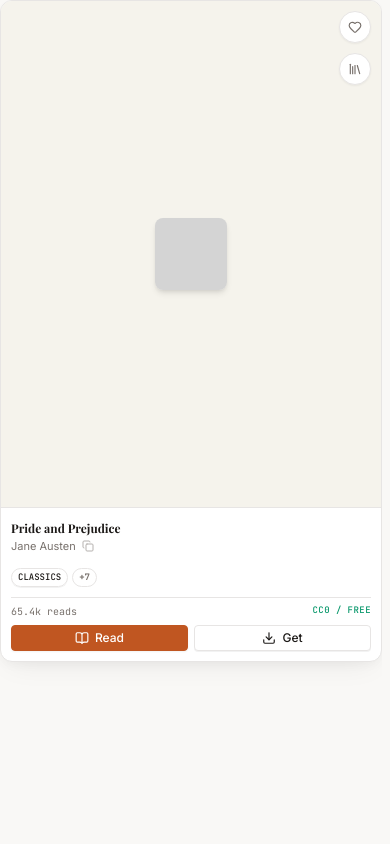
Scenario: BookCard component › should open unabridged topics popover when clicking +N button
The width and height of the screenshot is (390, 844).
Click the button named "more topics".
click(85, 578)  # box [72,568,97,587]
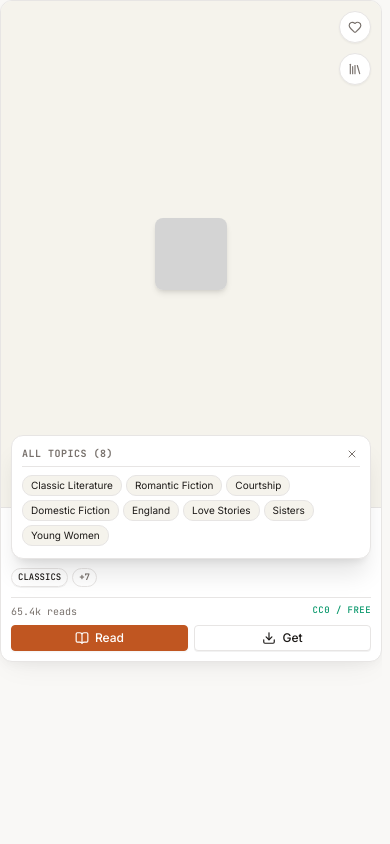
expect the text "All Topics (8)" is shown: met, box [22,446,113,461]
expect the text "Courtship" is shown: met, box [226,475,290,496]
expect the text "Domestic Fiction" is shown: met, box [22,500,119,521]
